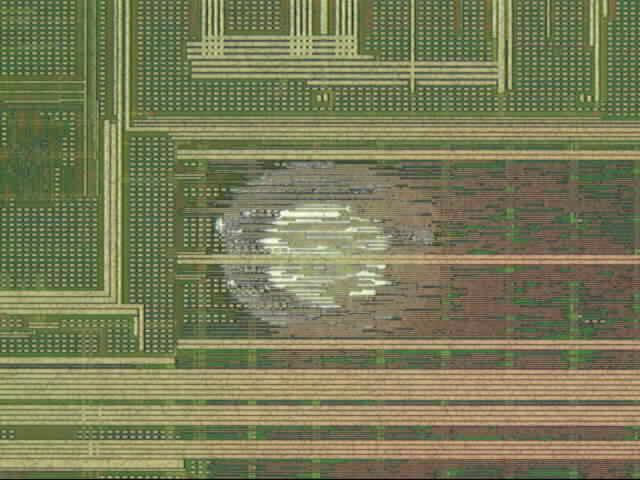BLOCK ETCH: (216, 158, 441, 344)
